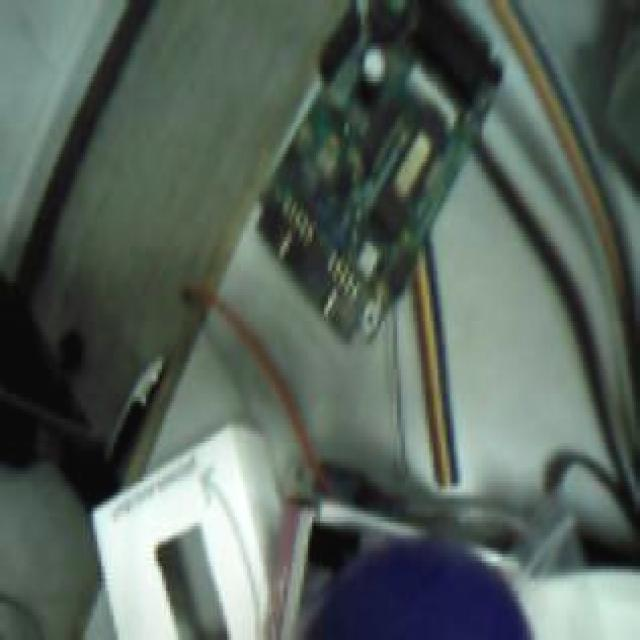BallPurple: (310, 535, 534, 640)
